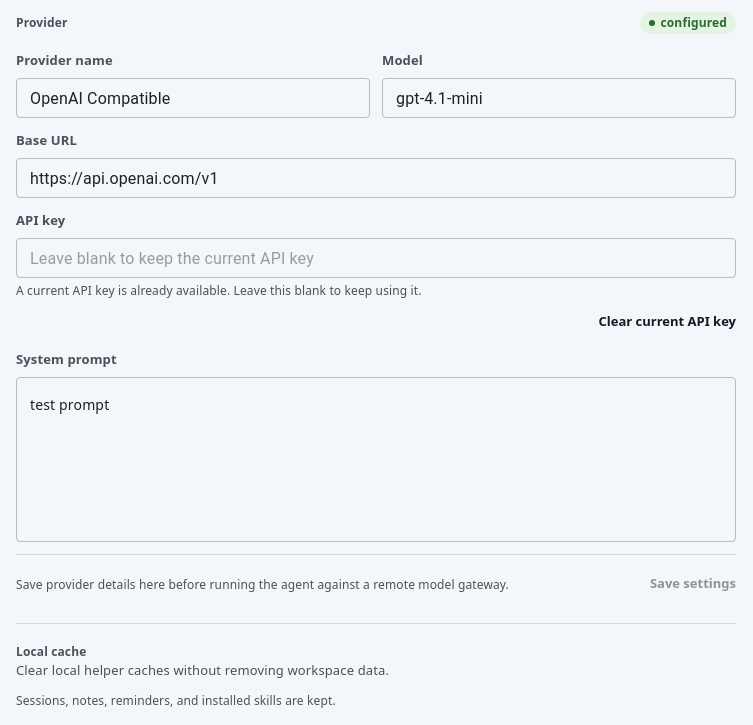
Test: typing a new api key exits clear mode in settings workspace
The image size is (753, 725).
Click the button "Clear current API key".
click(667, 321)  # box [598,305,736,337]
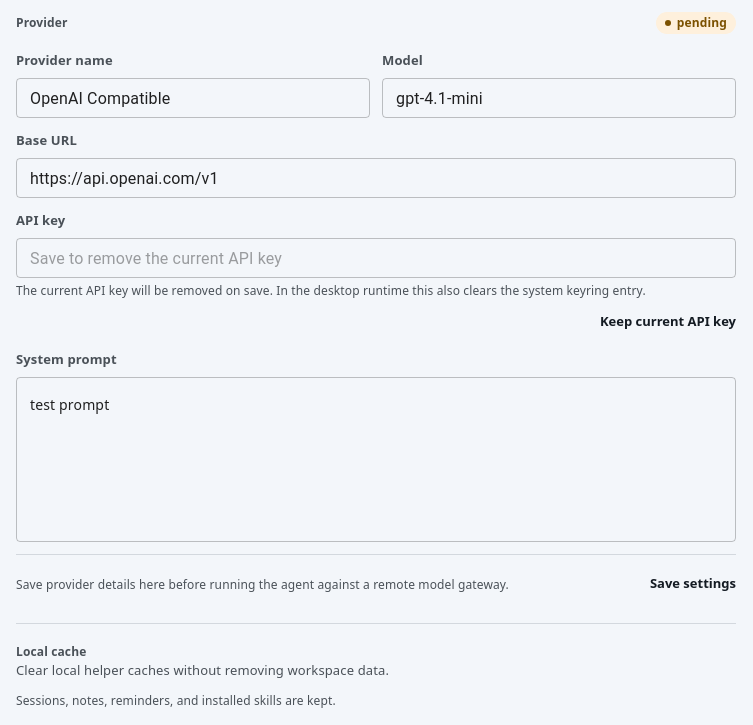
Type "next-key" into the password field with placeholder "Save to remove the current API key".
click(376, 258); type("next-key")  # box [16,238,736,278]
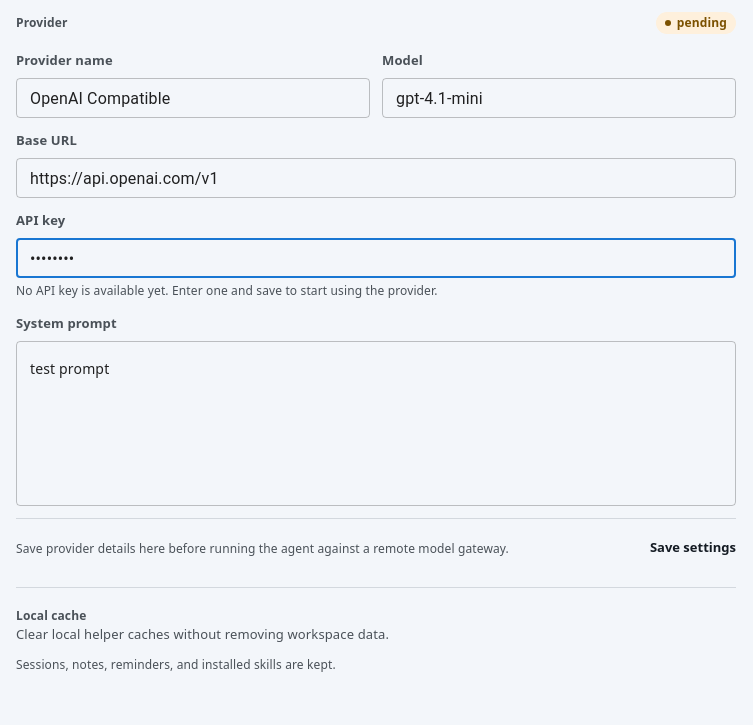
Check: the button "Clear current API key" is not shown
Check: the text "No API key is available yet. Enter one and save to start using the provider." is shown, box [16,282,438,299]
